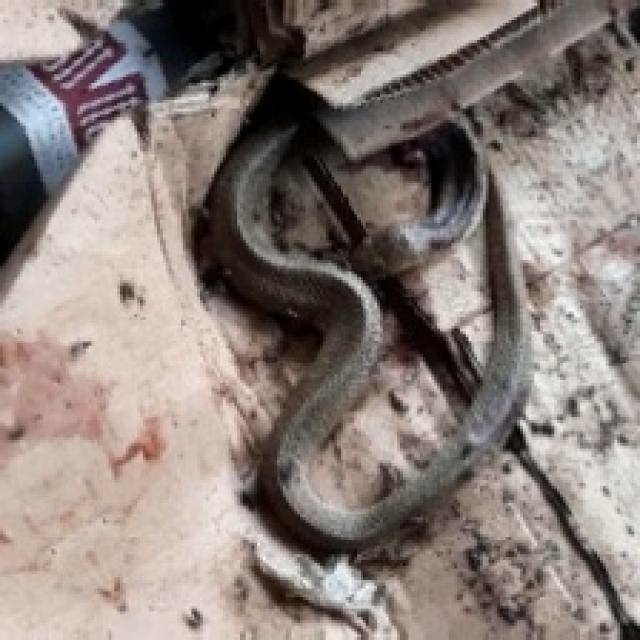philippine cobra: (209, 111, 526, 546)
